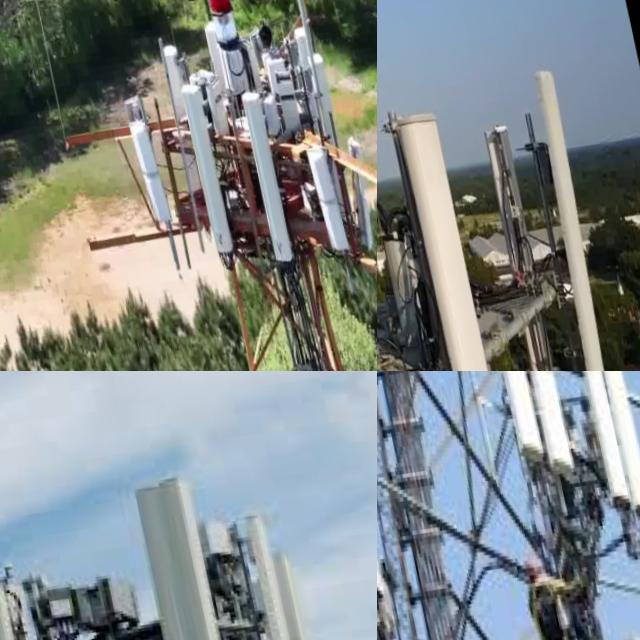GSM Antenna: (501, 42, 638, 371), (383, 91, 536, 371), (475, 110, 572, 371), (114, 451, 233, 640), (227, 501, 320, 640), (170, 79, 239, 264), (233, 81, 297, 270), (563, 371, 631, 499), (589, 371, 640, 519), (506, 371, 577, 477), (125, 113, 180, 237), (477, 371, 546, 463), (298, 140, 352, 254), (331, 133, 377, 261), (0, 563, 68, 640)
